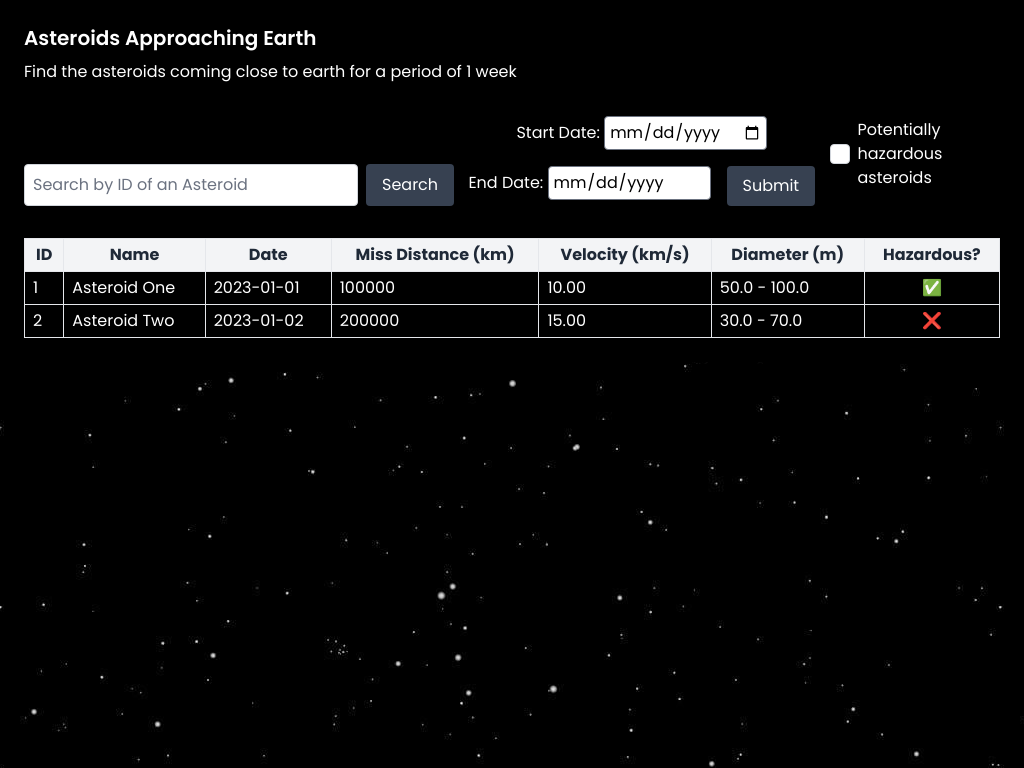
Scenario: AsteroidsData Component › searches for asteroid by ID
Step 1. Type "1" into the field with placeholder "Search by ID of an Asteroid" → (191, 185), box [24,164,358,206]
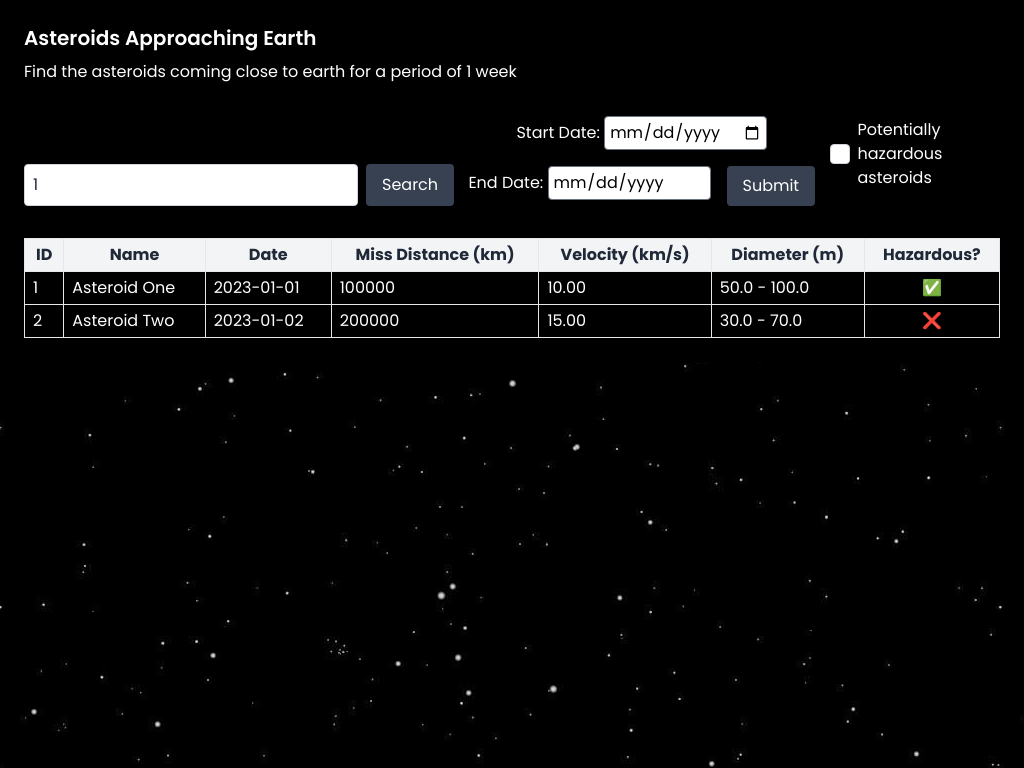
Step 2. Click the button "Search" → (410, 185), box [366,164,454,206]
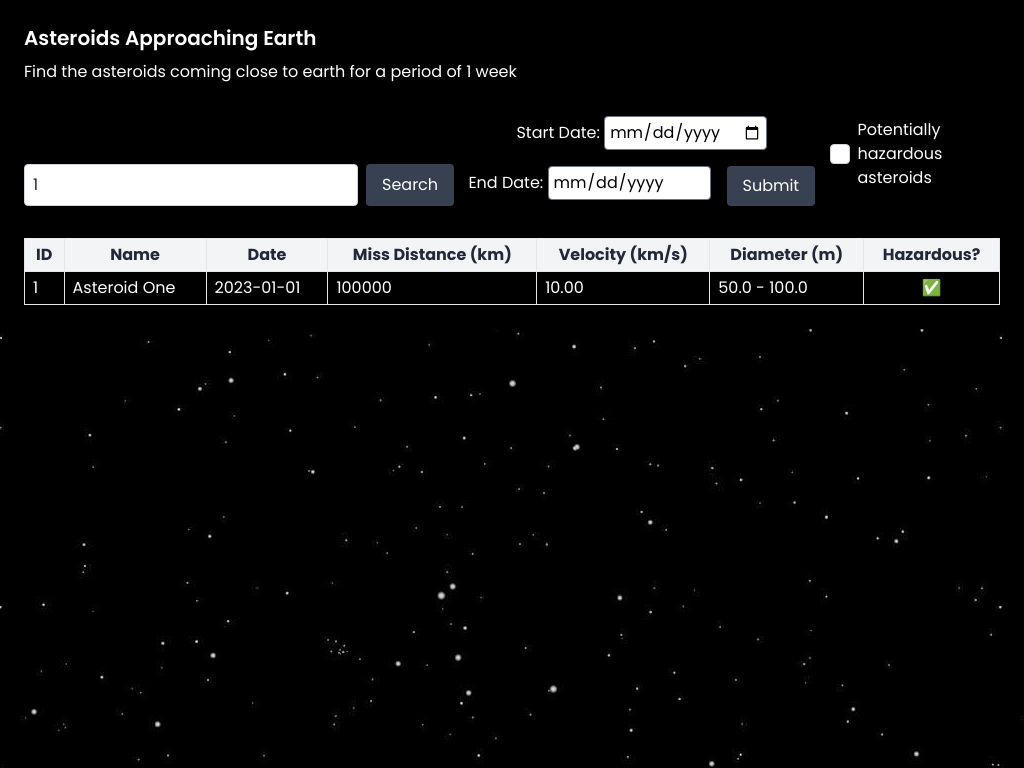
expect the link "Asteroid One" is shown: met, box [72,276,175,299]
expect the link "Asteroid Two" is gone: met
